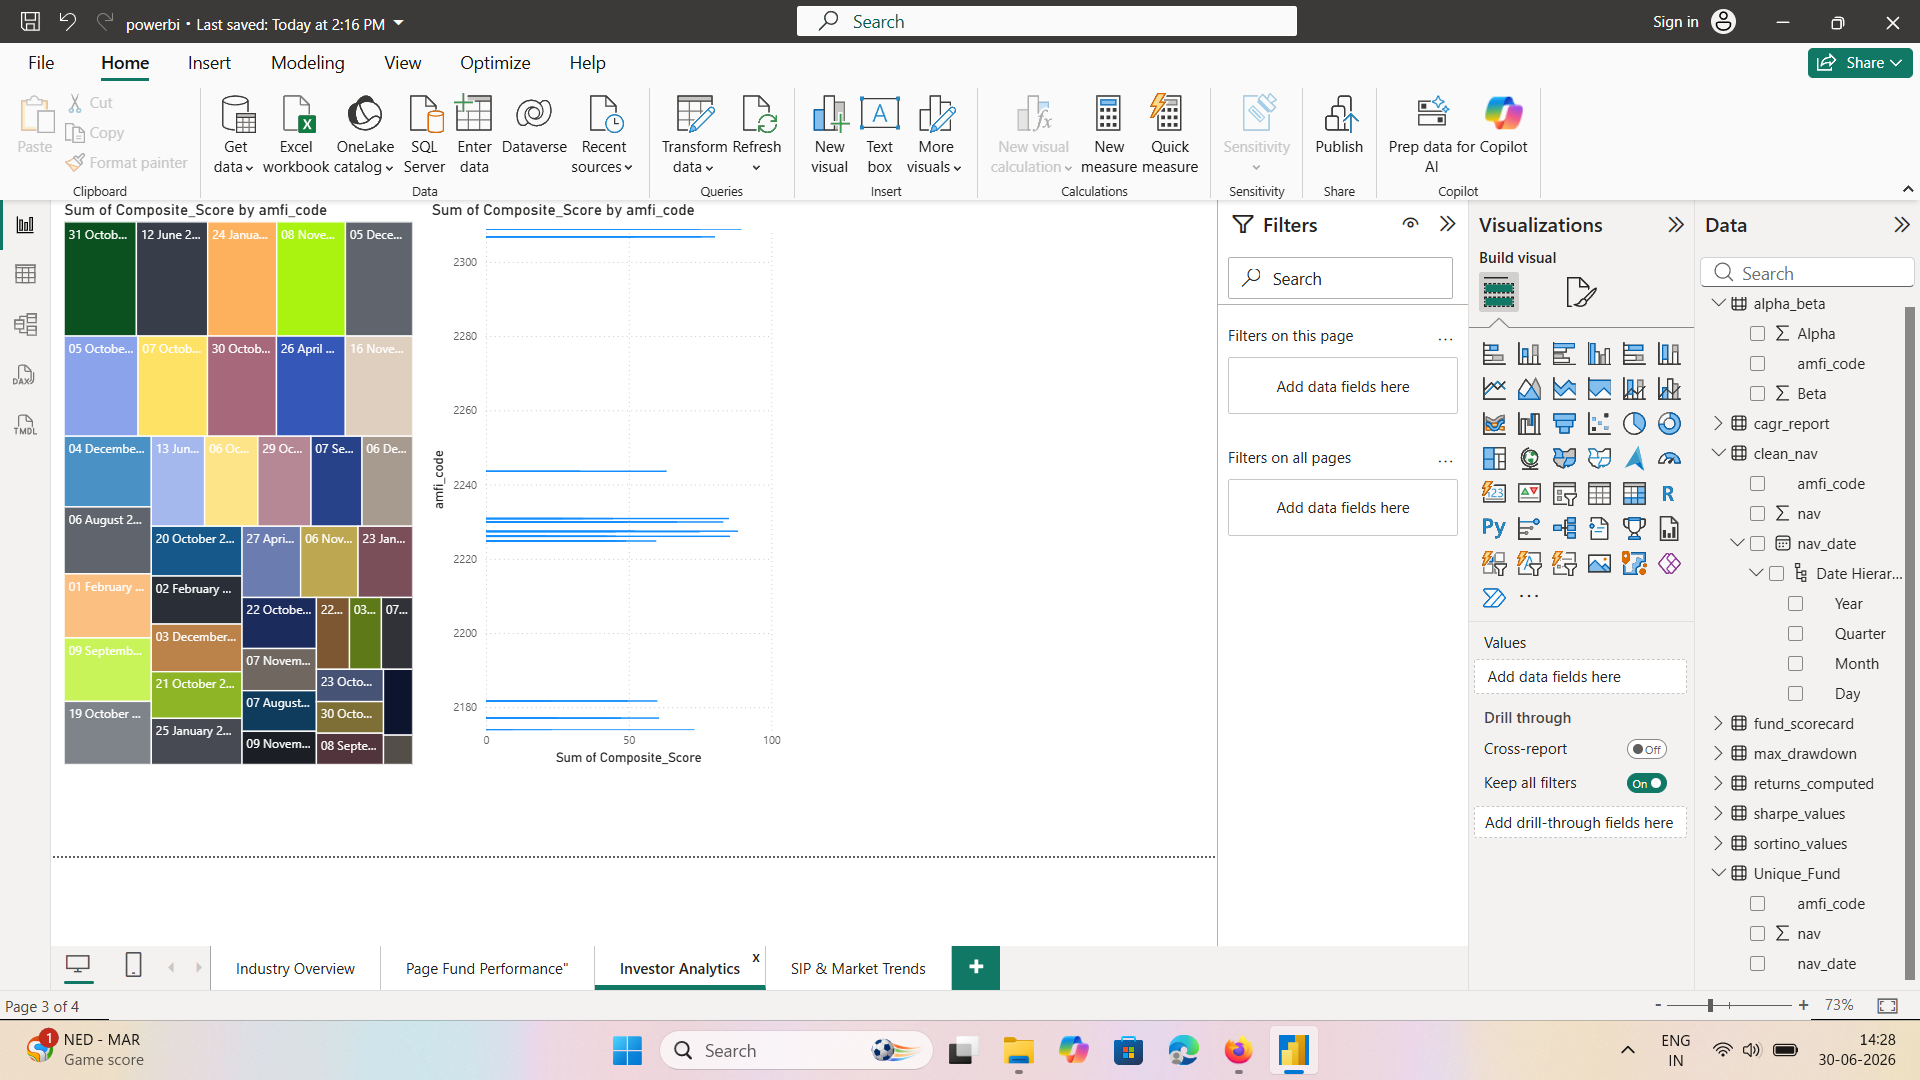

The page's visual inventory and layout, read from the dashboard file:
{"tool":"powerbi","page":{"name":"Investor Analytics","canvas":[1280,720],"ordinal":2},"visuals":[{"type":"treemap","fields":{"Group":["fund_scorecard.amfi_code"],"Values":["Sum(fund_scorecard.Composite_Score)"]},"box":[9.8,0,392.5,624.9],"z":0},{"type":"clusteredBarChart","fields":{"Category":["fund_scorecard.amfi_code"],"Y":["Sum(fund_scorecard.Composite_Score)"]},"box":[413,0,393,625],"z":1000}]}

Visuals, with their boxes on the page's 1280x720 design canvas (x1, y1, x2, y2). These are canvas units, not pixel positions in the 1920x1080 screenshot, which may show the page scaled, cropped or inside an application window:
treemap - fund_scorecard.amfi_code x Sum(fund_scorecard.Composite_Score): (x1=10, y1=0, x2=402, y2=625)
clusteredBarChart - fund_scorecard.amfi_code x Sum(fund_scorecard.Composite_Score): (x1=413, y1=0, x2=806, y2=625)
